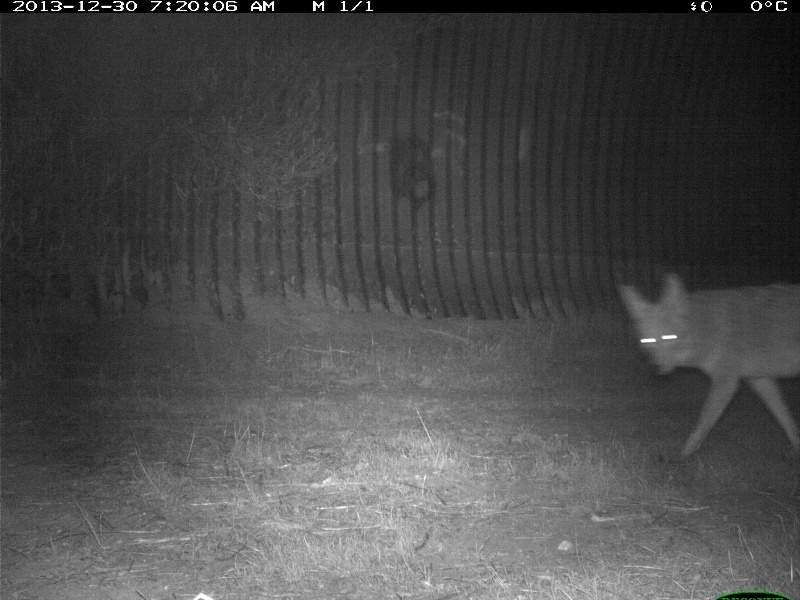coyote: (615, 265, 800, 469)
